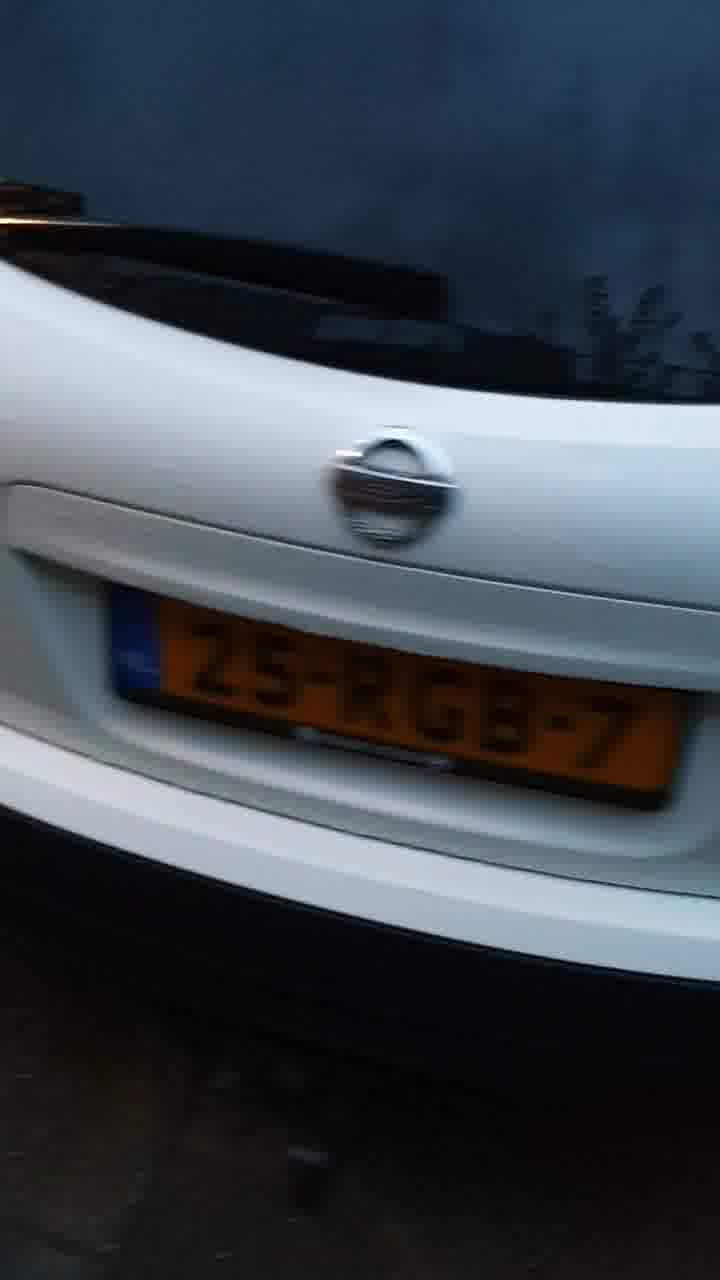plate: (95, 586, 687, 827)
